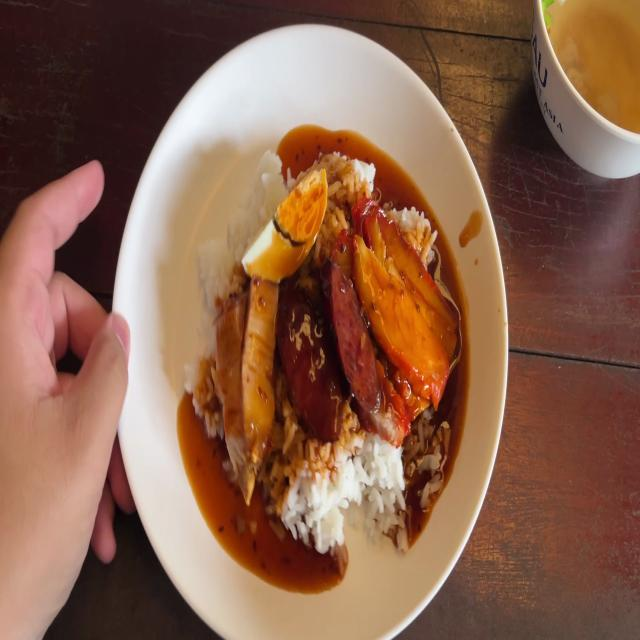red_pork_and_crispy_pork: (245, 170, 325, 280)
stir_fried_basil: (273, 270, 374, 431)
